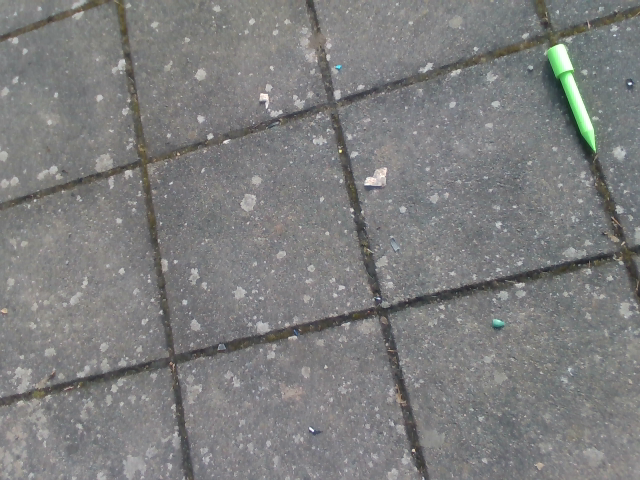Probe: (543, 40, 600, 158)
